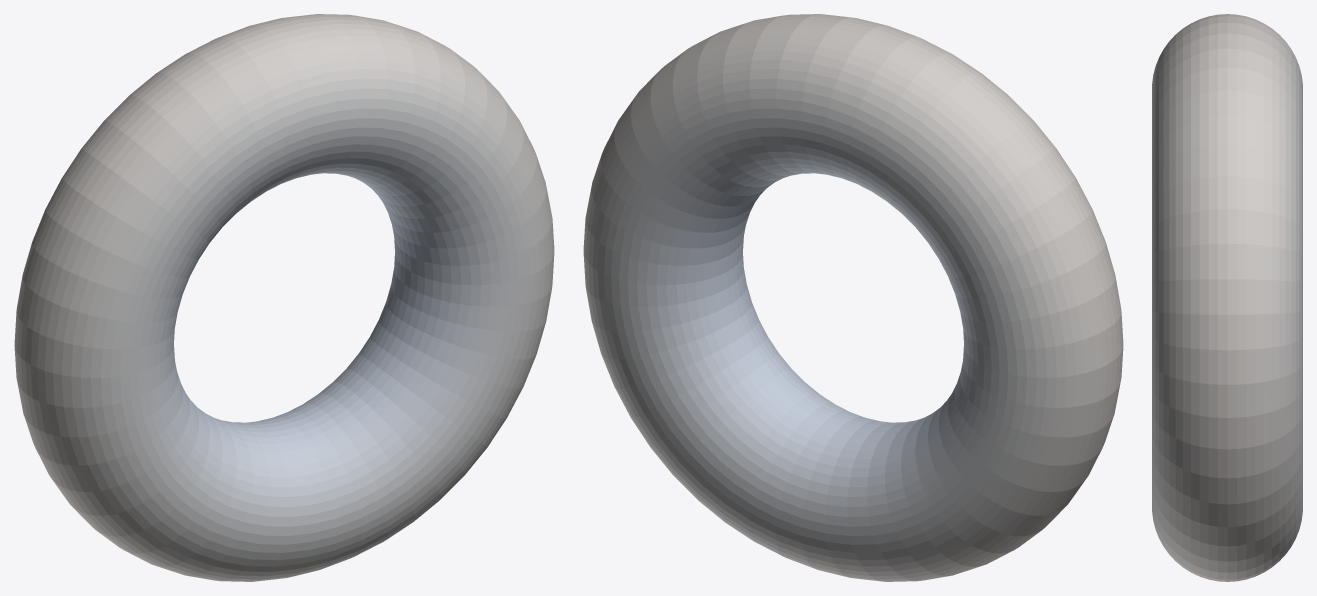
The picture shows the model from 3 angles, left to right: view 1: azimuth 30°, elevation 25°; view 2: azimuth 150°, elevation 25°; view 3: azimuth 270°, elevation 25°; orthographic projection. The views are drawn at different scales.
Visible parts, largest first — view 1: world; view 2: world; view 3: world.
Boxes of the visible parts, box(x1,y1,x2,y2) form: world: box(14, 14, 554, 581); world: box(583, 14, 1123, 581); world: box(1152, 14, 1302, 581).
Size of the model in its own units: 24.53 by 24.48 by 6.52.
